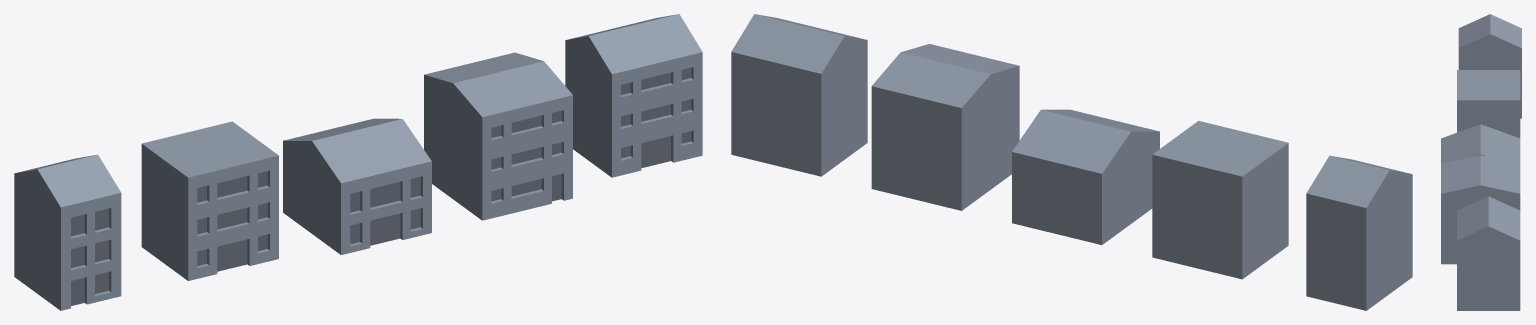
File: binagrid.gltf
3 renders of one model, left to right at view 1: azimuth 30°, elevation 25°; view 2: azimuth 150°, elevation 25°; view 3: azimuth 270°, elevation 25°, orthographic. The views are drawn at different scales.
Parts seen in each view (by area): view 1: Building_051.010, Building_056.010, Building_024.010, Building_042.010, Building_021.010, Building_024.014, Building_051.014, Building_042.014, Building_021.014, Building_056.014, Building_042.015, Building_024.015 (+1 smaller); view 2: Building_051.010, Building_056.010, Building_024.010, Building_042.010, Building_021.010; view 3: Building_056.010, Building_051.010, Building_024.010, Building_021.010, Building_042.010.
Part boxes in pixels (left/top/right/bottom): Building_051.010: left=424, top=52, right=572, bottom=220; Building_056.010: left=565, top=14, right=702, bottom=177; Building_024.010: left=141, top=121, right=278, bottom=280; Building_042.010: left=283, top=118, right=431, bottom=254; Building_021.010: left=14, top=154, right=121, bottom=310; Building_024.014: left=197, top=171, right=267, bottom=265; Building_051.014: left=491, top=110, right=561, bottom=201; Building_042.014: left=350, top=176, right=420, bottom=244; Building_021.014: left=71, top=208, right=108, bottom=293; Building_056.014: left=621, top=67, right=691, bottom=158; Building_042.015: left=370, top=213, right=400, bottom=245; Building_024.015: left=217, top=239, right=247, bottom=271; Building_051.010: left=871, top=44, right=1019, bottom=210; Building_056.010: left=731, top=14, right=867, bottom=176; Building_024.010: left=1152, top=121, right=1288, bottom=279; Building_042.010: left=1012, top=109, right=1159, bottom=244; Building_021.010: left=1306, top=155, right=1412, bottom=310; Building_056.010: left=1457, top=196, right=1520, bottom=310; Building_051.010: left=1441, top=155, right=1520, bottom=264; Building_024.010: left=1457, top=70, right=1520, bottom=138; Building_021.010: left=1458, top=14, right=1521, bottom=118; Building_042.010: left=1441, top=124, right=1520, bottom=163.
Size of the model in its own units: 0.3451 by 0.0641 by 0.0555.
